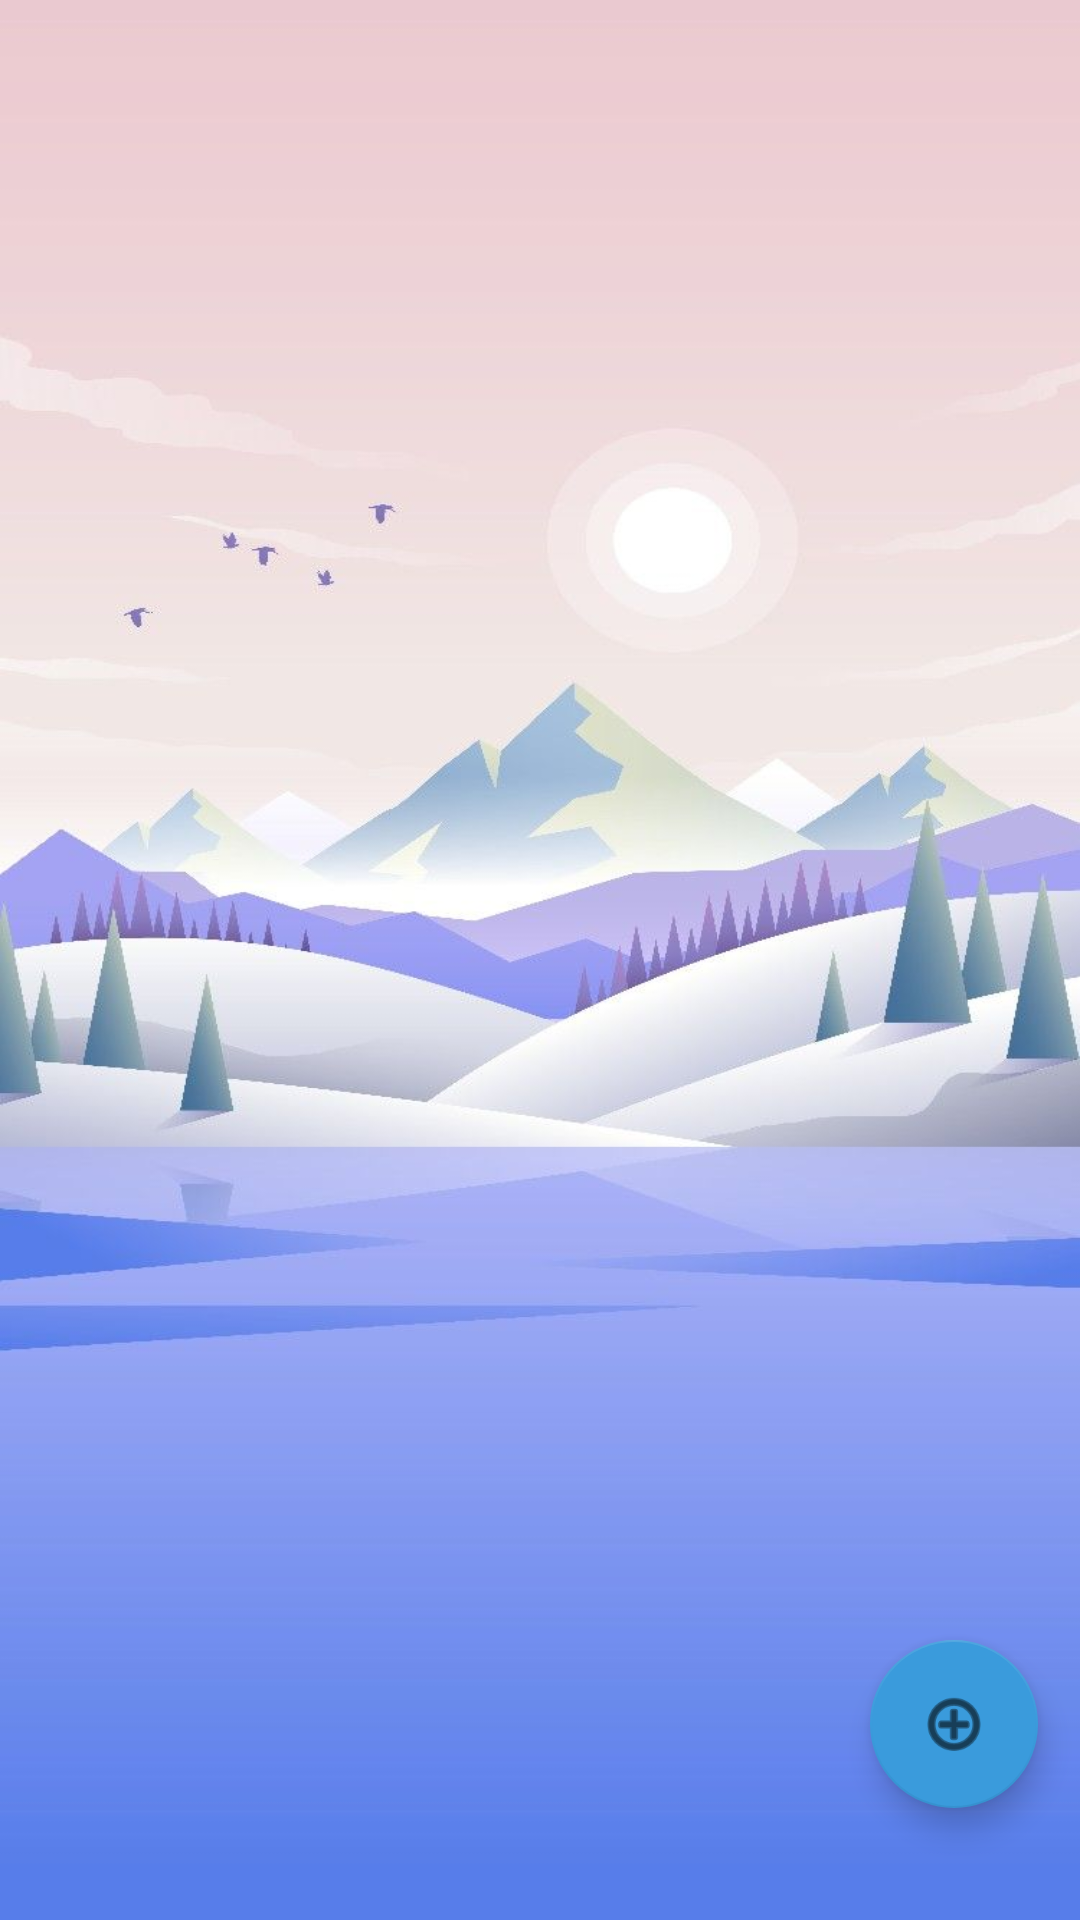

Point at icon controls on the screen. Image size 1080w x 1920h, points as (x=x, y=y).
add: (x=954, y=1724)
